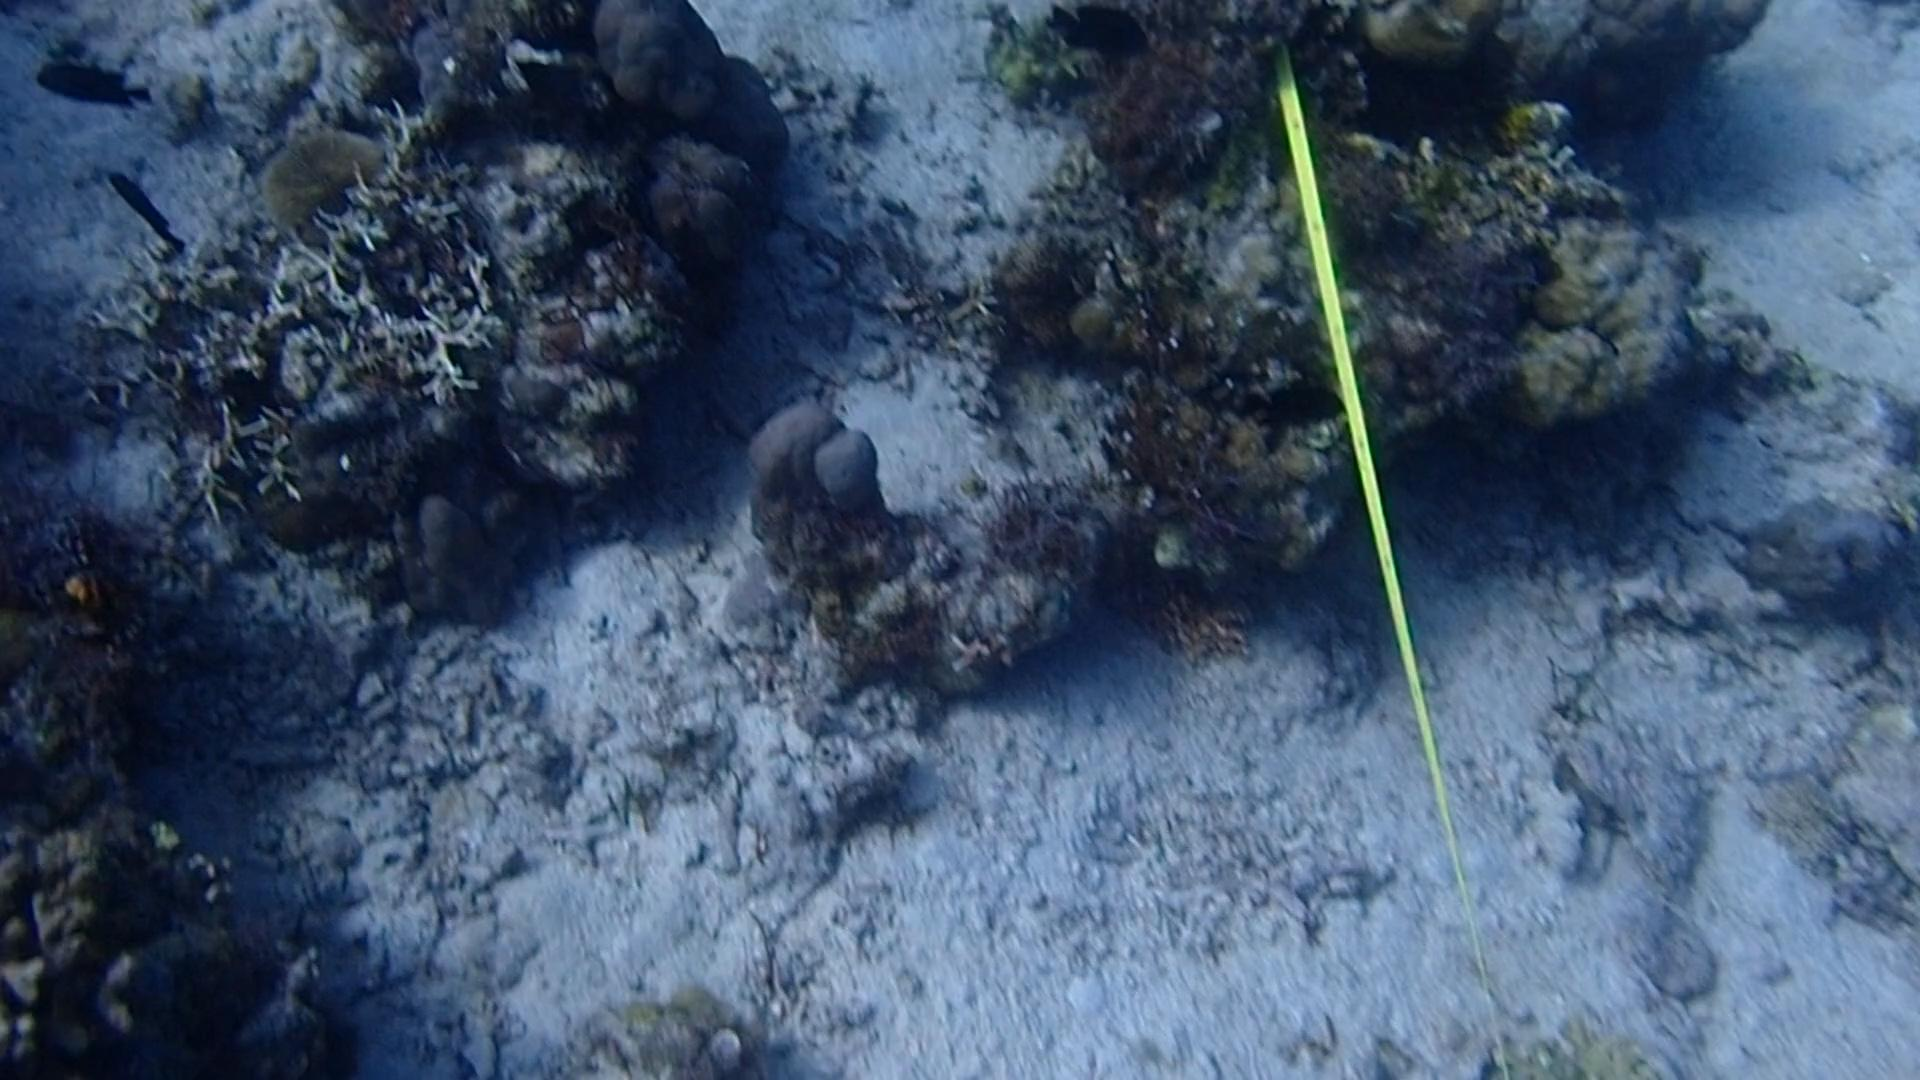Dark Fish: (508, 30, 616, 153), (28, 45, 165, 127), (95, 158, 195, 264), (1036, 0, 1164, 80), (1244, 371, 1349, 448)
